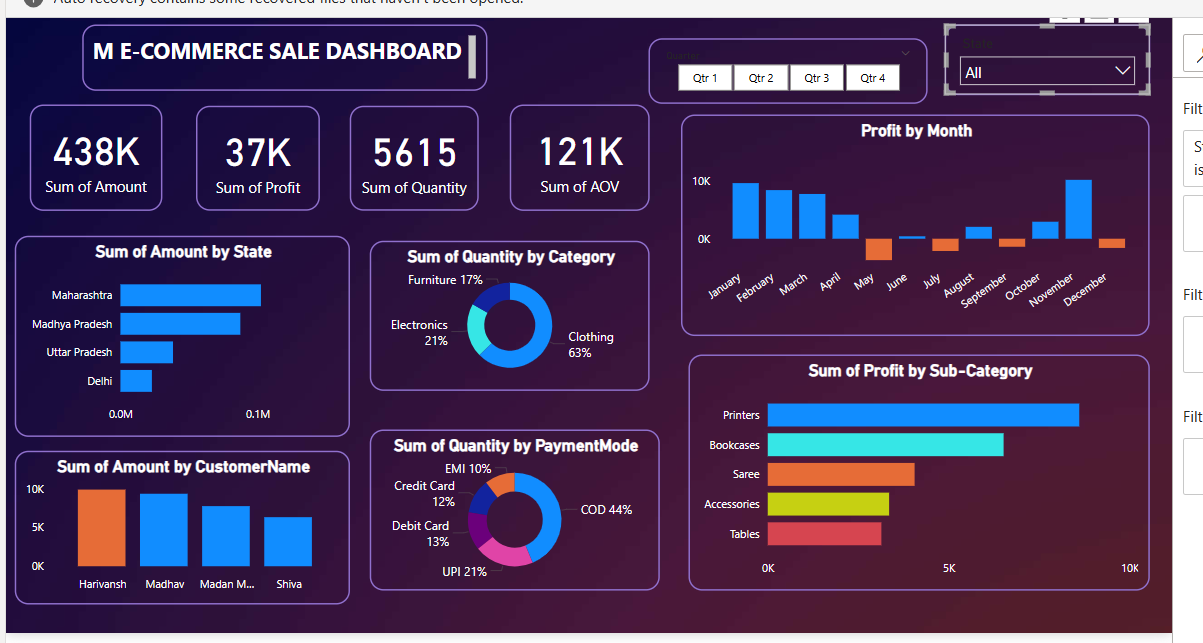

What the dashboard file says about the page in this screenshot:
{"tool":"powerbi","page":{"name":"Page 1","canvas":[1280,720],"ordinal":0},"visuals":[{"type":"textbox","box":[83.7,52.1,444.6,72.7],"z":0},{"type":"columnChart","title":"Profit by Month","fields":{"Y":["Sum(Details.Profit)"],"Category":["Orders.Order Date.Variation.Date Hierarchy.Month"]},"box":[741,150.9,514.6,242.9],"z":1000},{"type":"barChart","fields":{"Category":["Details.Sub-Category"],"Y":["Sum(Details.Profit)"]},"box":[749.2,414.4,506.3,259.3],"z":2000},{"type":"donutChart","fields":{"Category":["Details.Category"],"Y":["Sum(Details.Quantity)"]},"box":[399.3,289.5,307.4,164.7],"z":3000},{"type":"donutChart","fields":{"Category":["Details.PaymentMode"],"Y":["Sum(Details.Quantity)"]},"box":[399.3,496.7,318.4,177],"z":4000},{"type":"card","fields":{"Values":["Sum(Details.Amount)"]},"box":[26.1,140,145.5,116.6],"z":5000},{"type":"card","fields":{"Values":["Sum(Details.Profit)"]},"box":[208.6,141.3,135.8,115.3],"z":6000},{"type":"card","fields":{"Values":["Sum(Details.Quantity)"]},"box":[377.4,141.3,141.3,115.3],"z":7000},{"type":"card","fields":{"Values":["Sum(Details.AOV)"]},"box":[553,140,153.7,116.6],"z":8000},{"type":"barChart","fields":{"Category":["Orders.State"],"Y":["Sum(Details.Amount)"]},"box":[9.6,284,367.8,220.9],"z":9000},{"type":"columnChart","fields":{"Category":["Orders.CustomerName"],"Y":["Sum(Details.Amount)"]},"box":[9.6,520.1,367.8,168.8],"z":10000},{"type":"slicer","fields":{"Values":["Orders.Order Date.Variation.Date Hierarchy.Quarter"]},"box":[705.8,67.6,306.4,72.4],"z":11000},{"type":"slicer","fields":{"Values":["Orders.State"]},"box":[1030.3,51.9,225.6,77.2],"z":12000}]}

Visuals, with their boxes on the page's 1280x720 design canvas (x1, y1, x2, y2). These are canvas units, not pixel positions in the 1203x643 screenshot, which may show the page scaled, cropped or inside an application window:
textbox: Rect(84, 52, 528, 125)
"Profit by Month" columnChart: Rect(741, 151, 1256, 394)
barChart - Details.Sub-Category x Sum(Details.Profit): Rect(749, 414, 1256, 674)
donutChart - Details.Category x Sum(Details.Quantity): Rect(399, 290, 707, 454)
donutChart - Details.PaymentMode x Sum(Details.Quantity): Rect(399, 497, 718, 674)
card - Sum(Details.Amount): Rect(26, 140, 172, 257)
card - Sum(Details.Profit): Rect(209, 141, 344, 257)
card - Sum(Details.Quantity): Rect(377, 141, 519, 257)
card - Sum(Details.AOV): Rect(553, 140, 707, 257)
barChart - Orders.State x Sum(Details.Amount): Rect(10, 284, 377, 505)
columnChart - Orders.CustomerName x Sum(Details.Amount): Rect(10, 520, 377, 689)
slicer - Orders.Order Date.Variation.Date Hierarchy.Quarter: Rect(706, 68, 1012, 140)
slicer - Orders.State: Rect(1030, 52, 1256, 129)
